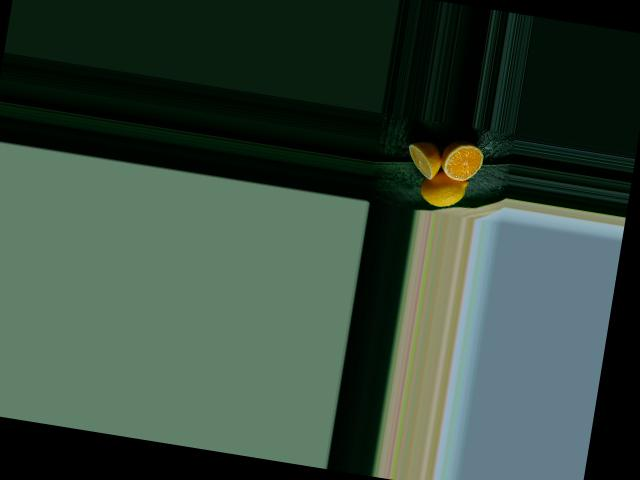lemon: (417, 165, 477, 211)
